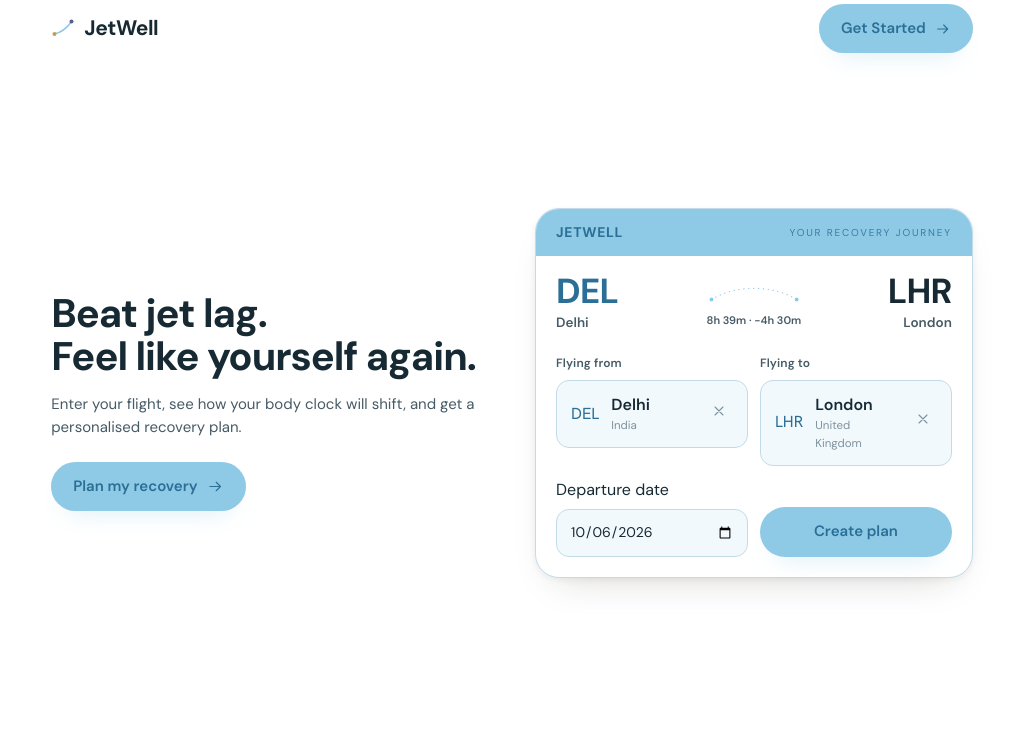
Scenario: app smoke tests › renders the check-in screen
Step 1. Click the button "Get Started" → (896, 29), box top-left (819, 4), bottom-right (973, 53)
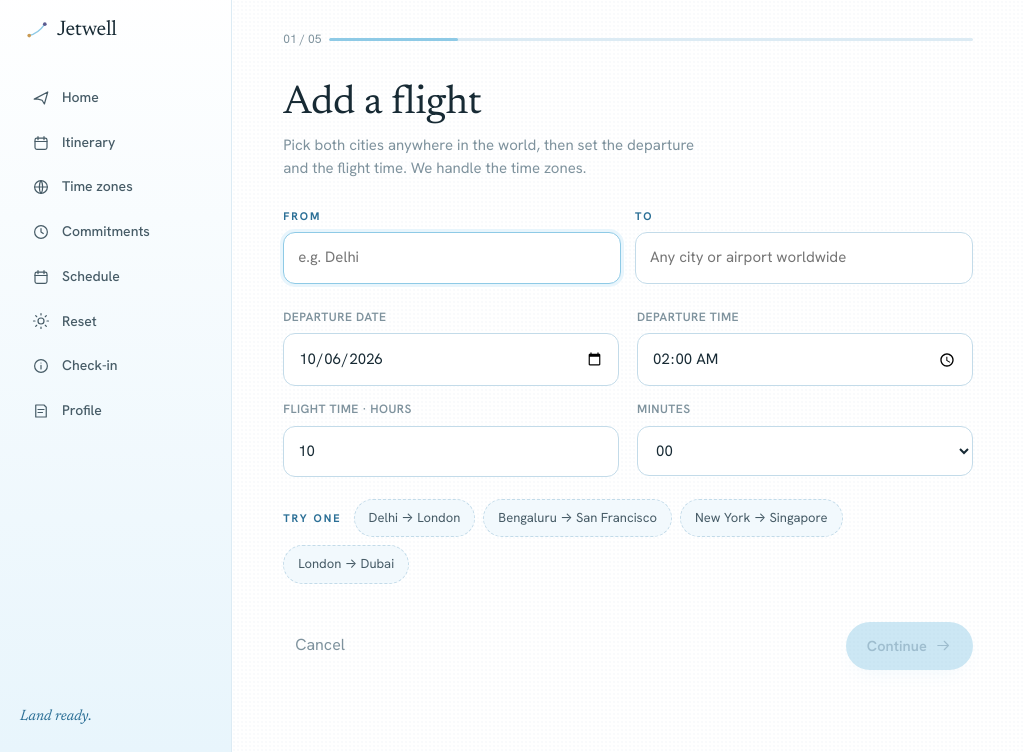
Step 2. Click the button "Check-in" → (116, 366), box top-left (20, 345), bottom-right (211, 387)
(page scrolled)
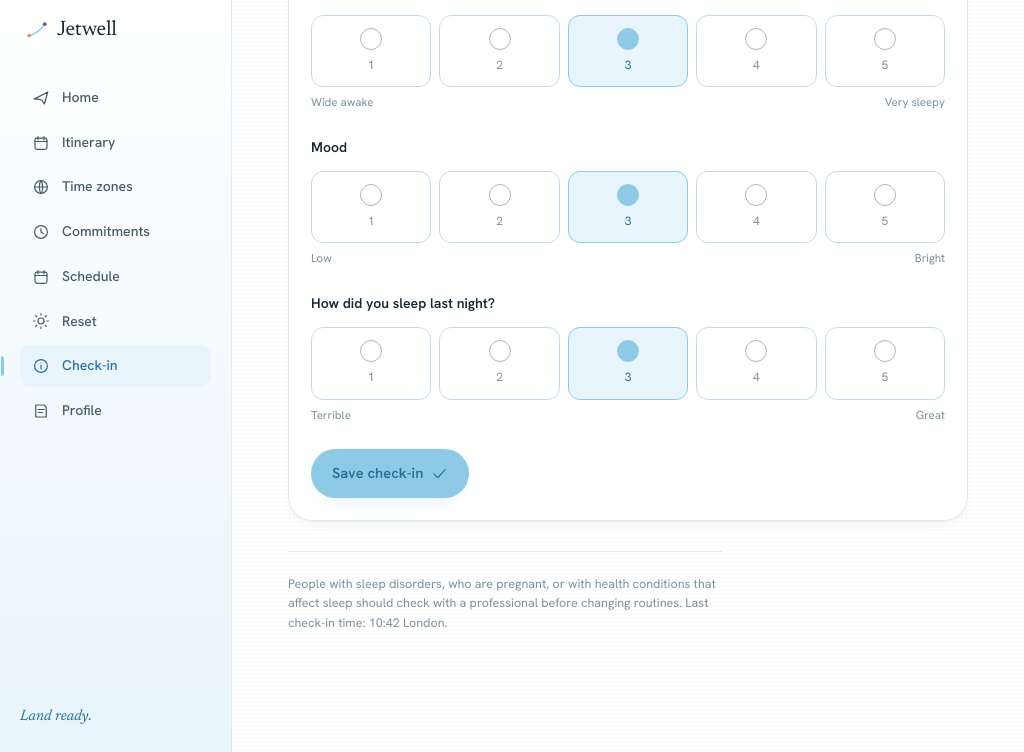
Expected: the button "Save check-in" is shown, top-left (311, 449), bottom-right (469, 498)
